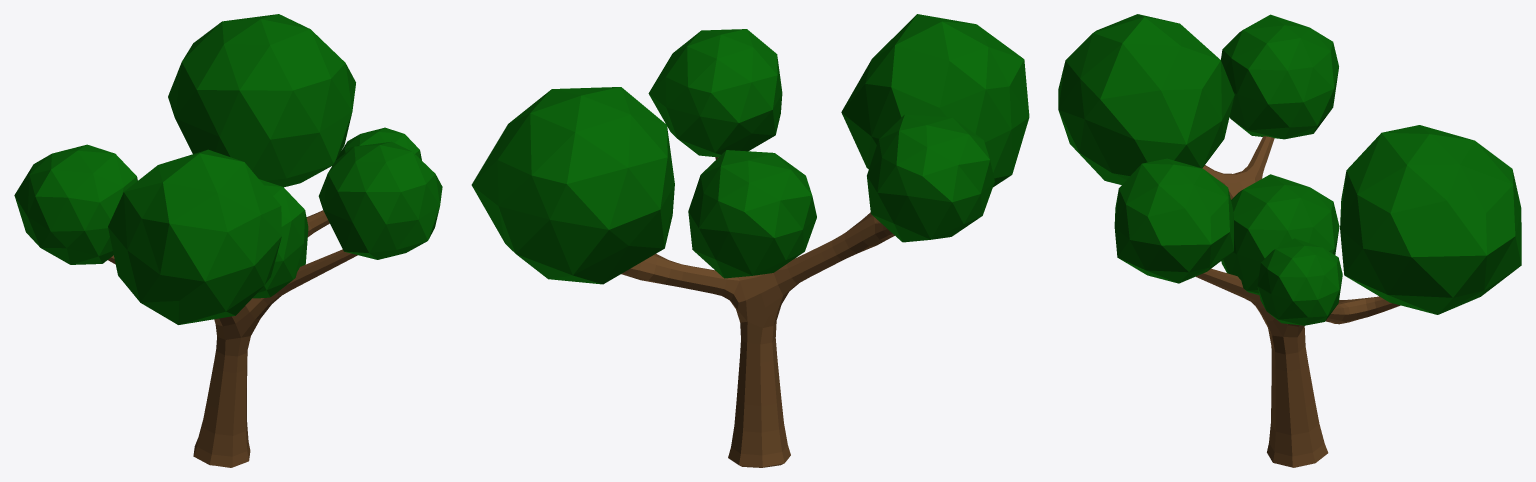
Rendered from Park1_T5.glb.
3 views of the same model, side by side, from view 1: azimuth 30°, elevation 25°; view 2: azimuth 150°, elevation 25°; view 3: azimuth 270°, elevation 25° (orthographic). The views are drawn at different scales.
Visible parts, largest first — view 1: Park1-T5; view 2: Park1-T5; view 3: Park1-T5.
Part boxes in pixels (<box>): Park1-T5: <box>14,14,442,467</box>; Park1-T5: <box>471,14,1029,467</box>; Park1-T5: <box>1058,14,1521,467</box>.
Bounding box in the file's own units: 69.66 × 63.82 × 68.29.
